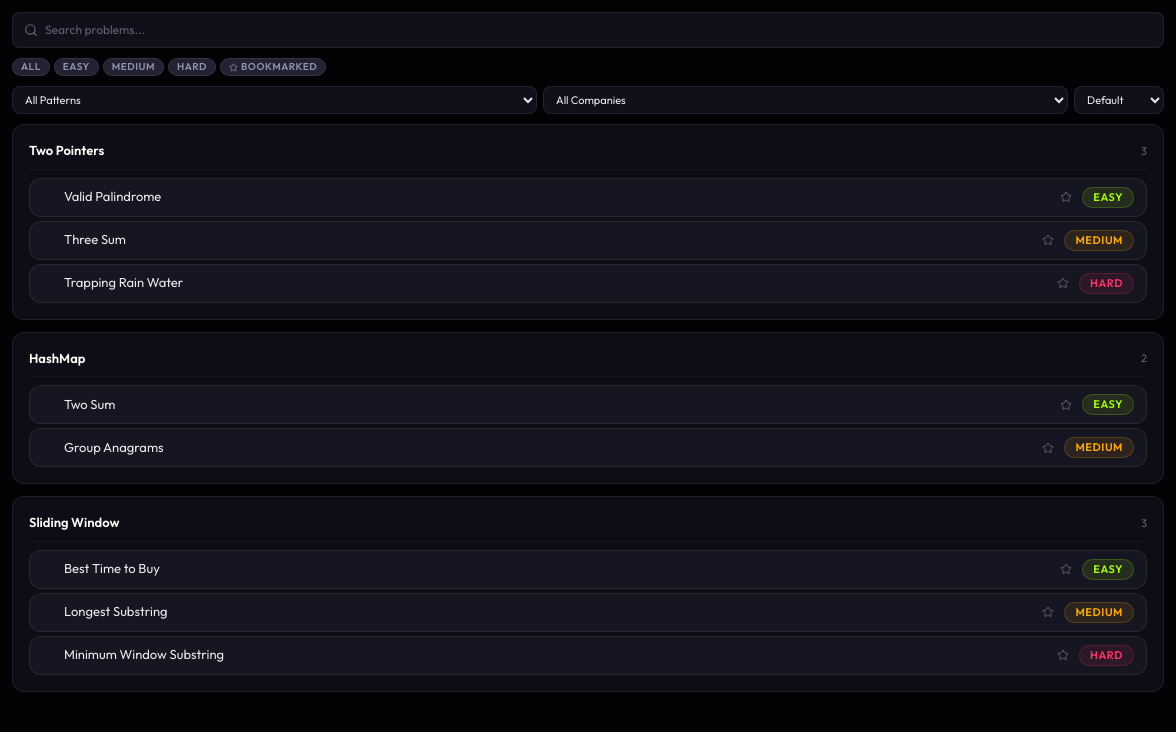
it: ProblemList › difficulty filter › filters to Hard problems when Hard chip clicked
The width and height of the screenshot is (1176, 732).
Click the button "Hard".
click(192, 67)  # box [168, 58, 216, 76]
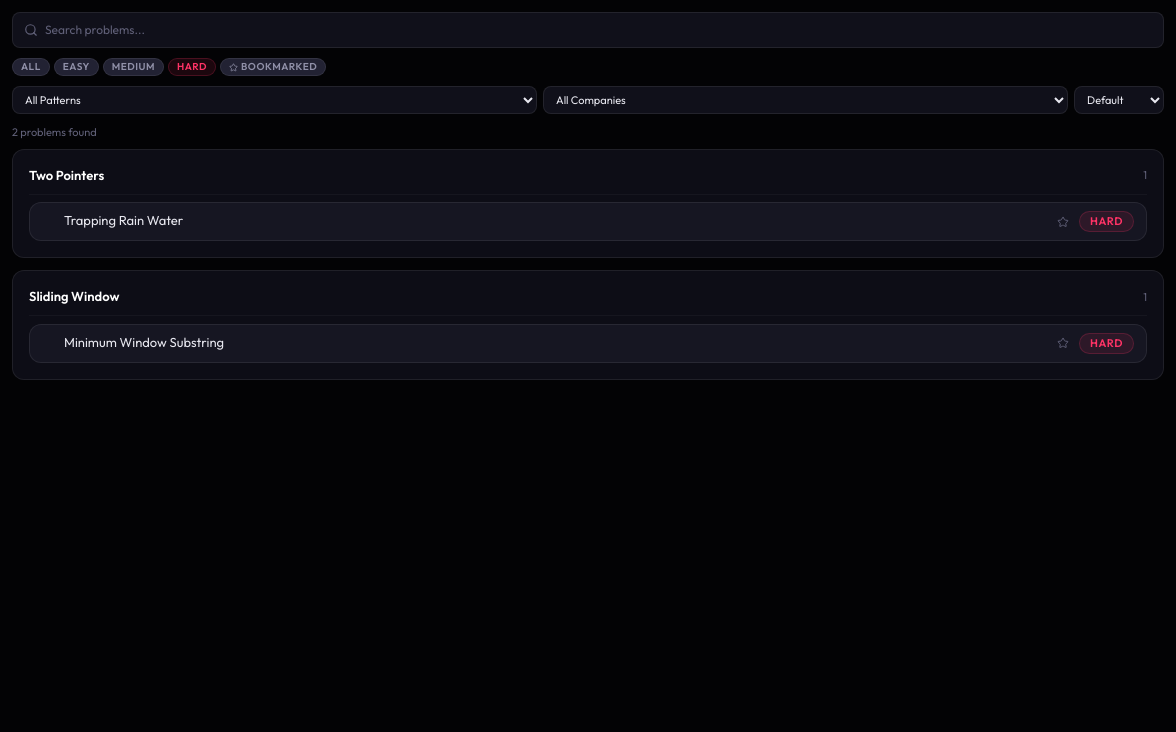
Expected: the text "Trapping Rain Water" is shown, [64, 213, 183, 229]
Expected: the text "Two Sum" is gone
